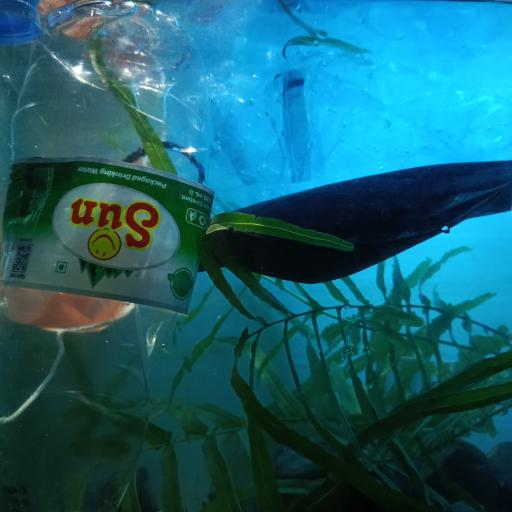bottle_cap: (0, 0, 41, 44)
mask: (206, 156, 511, 286), (4, 149, 164, 378)
plastic_bag: (208, 36, 512, 188)
plastic_bottle: (2, 2, 218, 512)
